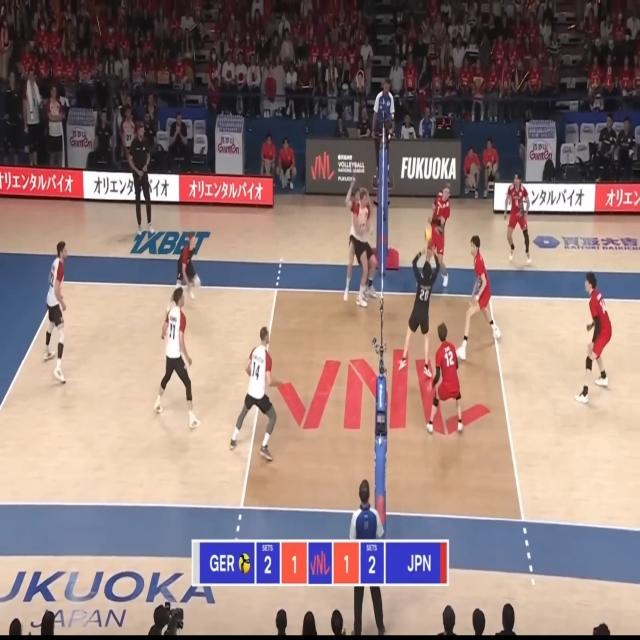ball: (424, 222, 432, 242)
